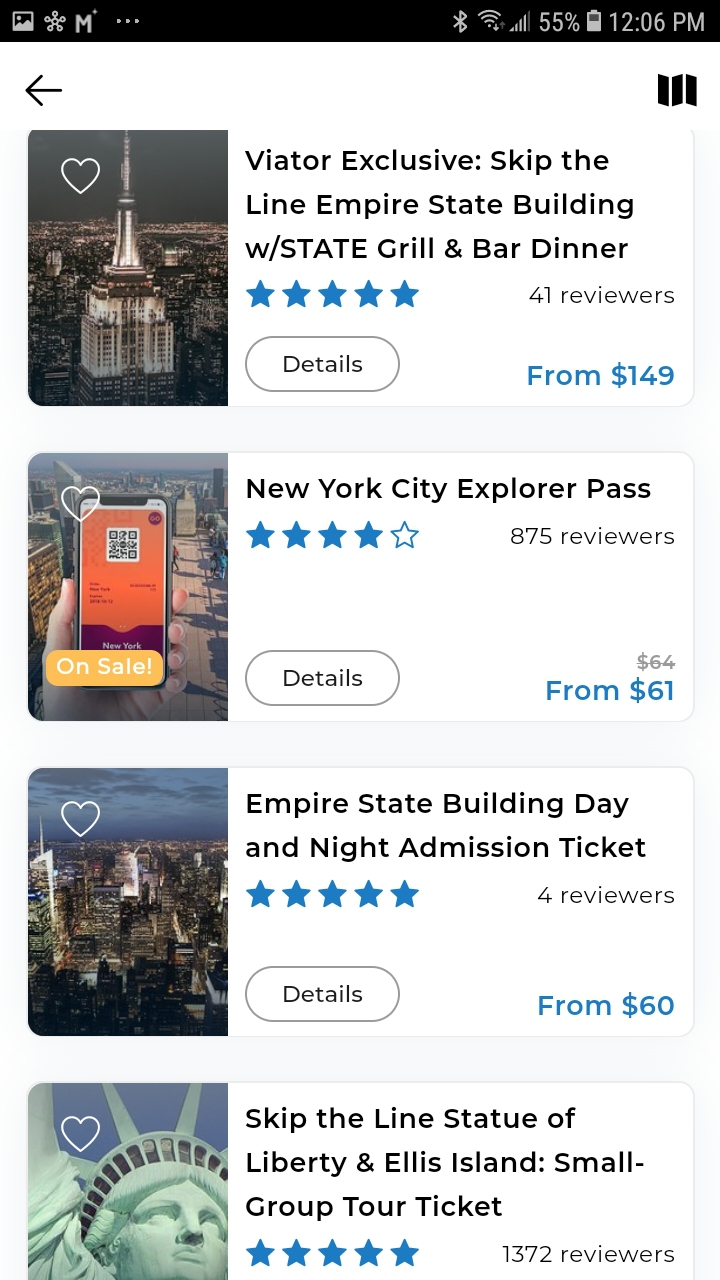Icon: (245, 879, 420, 908), (246, 520, 420, 549), (246, 1238, 420, 1267), (246, 280, 420, 309), (61, 158, 102, 196), (62, 800, 101, 837), (61, 486, 101, 522), (62, 1116, 101, 1152), (658, 74, 698, 108), (26, 75, 63, 107)
Image: (28, 131, 229, 407), (29, 453, 229, 722), (29, 768, 229, 1036), (29, 1083, 229, 1280)
Text: (246, 1106, 644, 1222), (245, 149, 634, 263), (246, 791, 646, 863), (247, 477, 651, 504), (539, 991, 675, 1019), (529, 363, 674, 389), (547, 677, 673, 704), (503, 1245, 675, 1262), (512, 527, 674, 545), (530, 287, 675, 304), (539, 886, 675, 904), (636, 652, 676, 672)
TextButton: (245, 965, 401, 1023), (245, 650, 401, 707), (245, 336, 401, 393), (47, 650, 163, 686)
UpperTaskBar: (1, 1, 720, 43)
